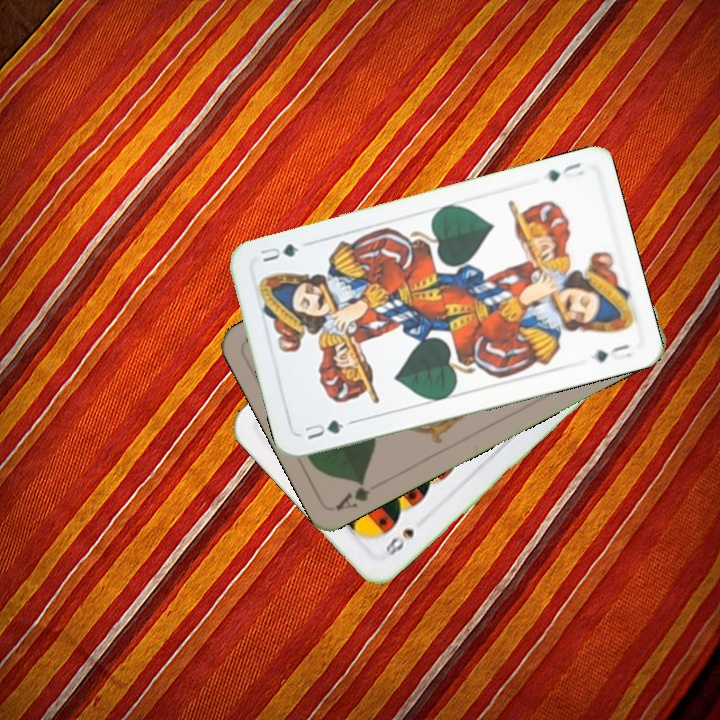GA: (332, 475, 373, 513)
GU: (300, 415, 347, 443), (543, 158, 586, 185)
S8: (380, 524, 417, 562)
